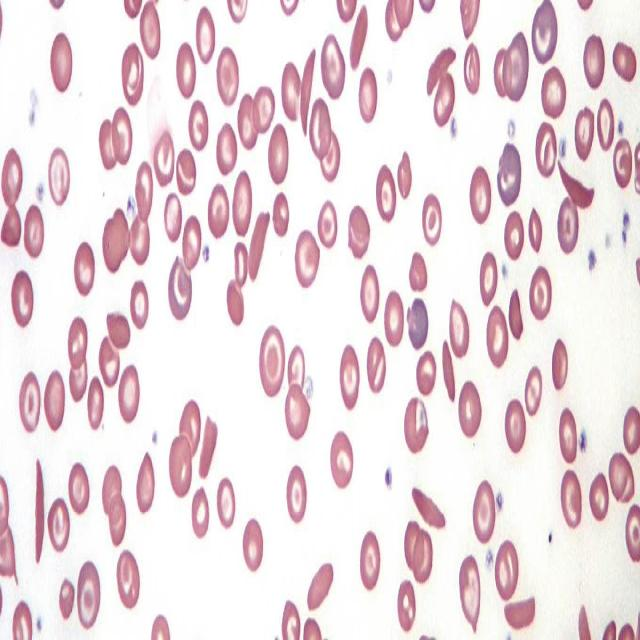RBC: (257, 317, 288, 403), (326, 424, 358, 507), (43, 134, 76, 212), (465, 161, 497, 237), (38, 362, 70, 438), (14, 362, 46, 437), (318, 26, 350, 101), (64, 456, 98, 526), (266, 112, 294, 196), (276, 52, 306, 130), (472, 467, 500, 548), (556, 461, 587, 534), (71, 230, 101, 304), (213, 467, 242, 543), (531, 109, 559, 187), (457, 372, 485, 450), (114, 358, 147, 424), (235, 513, 267, 581), (527, 262, 556, 336), (203, 174, 233, 245), (43, 485, 71, 561), (76, 557, 101, 640), (383, 276, 407, 362), (337, 339, 364, 415), (294, 224, 323, 294), (194, 0, 222, 72), (357, 531, 387, 598), (213, 42, 242, 110), (504, 388, 529, 466), (250, 77, 277, 148), (361, 330, 389, 398), (356, 260, 383, 329), (150, 122, 177, 190), (412, 343, 439, 411), (374, 160, 399, 233), (420, 180, 446, 250), (0, 147, 27, 214), (9, 273, 38, 335), (117, 546, 143, 614), (612, 127, 634, 201), (111, 102, 135, 169), (284, 462, 308, 529), (216, 119, 240, 183), (187, 96, 213, 154)
sickle cell: (556, 147, 600, 227), (411, 468, 448, 544), (31, 443, 49, 581), (295, 40, 318, 137), (425, 42, 455, 99)
